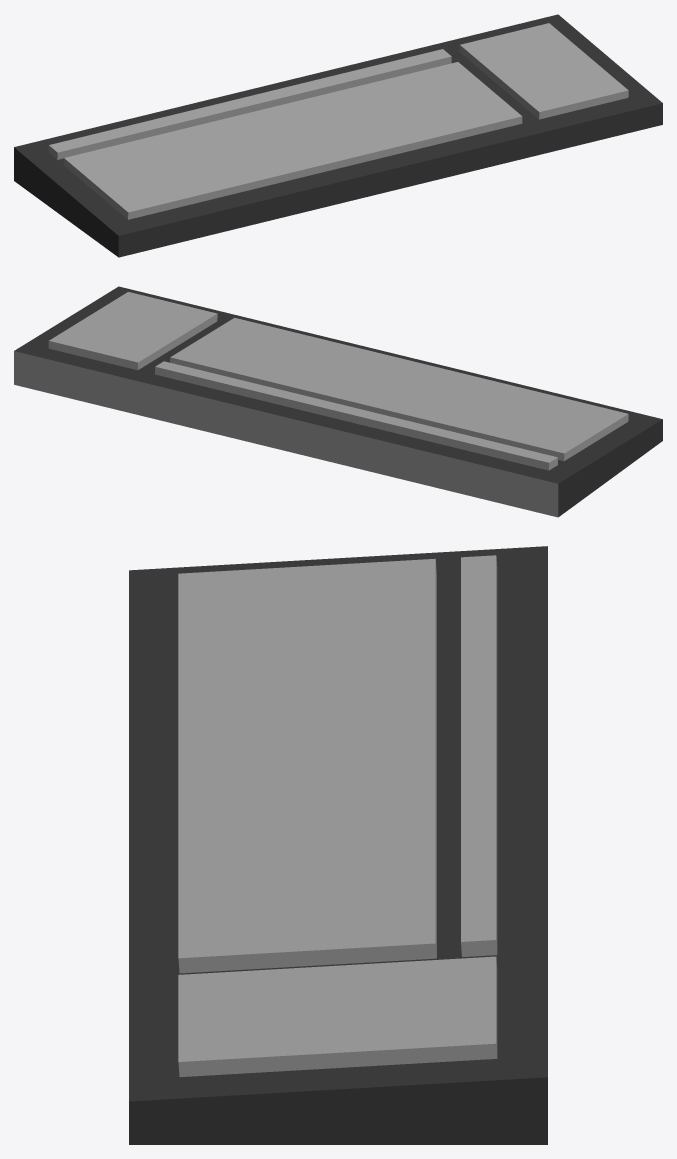
The model's file is Keyboard.fbx.
3 views of the same model, one above another, from view 1: azimuth 30°, elevation 25°; view 2: azimuth 150°, elevation 25°; view 3: azimuth 270°, elevation 25° (orthographic). The views are drawn at different scales.
Parts seen in each view (by area): view 1: Keyboard; view 2: Keyboard; view 3: Keyboard.
Part boxes in pixels (x1=…): Keyboard: x1=14, y1=14, x2=662, y2=257; Keyboard: x1=14, y1=286, x2=662, y2=517; Keyboard: x1=129, y1=546, x2=547, y2=1144.
Bounding box in the file's own units: 45 × 3.15 × 15.
